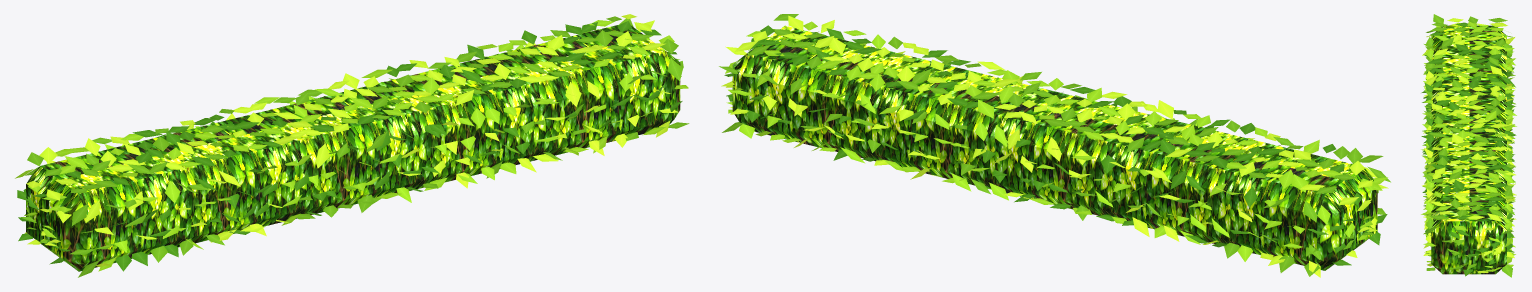
The model's file is V03_shrub_v2.glb.
The picture shows the model from 3 angles, left to right: view 1: azimuth 30°, elevation 25°; view 2: azimuth 150°, elevation 25°; view 3: azimuth 270°, elevation 25°; orthographic projection. The views are drawn at different scales.
Parts seen in each view (by area): view 1: GAME_VEG_Dense_inner_leaves, GAME_VEG_Sculpted_leaves; view 2: GAME_VEG_Dense_inner_leaves, GAME_VEG_Sculpted_leaves; view 3: GAME_VEG_Sculpted_leaves, GAME_VEG_Dense_inner_leaves.
Part boxes in pixels (<box>): GAME_VEG_Dense_inner_leaves: <box>26,24,680,271</box>; GAME_VEG_Sculpted_leaves: <box>15,14,689,277</box>; GAME_VEG_Dense_inner_leaves: <box>732,25,1377,270</box>; GAME_VEG_Sculpted_leaves: <box>719,14,1390,277</box>; GAME_VEG_Sculpted_leaves: <box>1421,14,1516,277</box>; GAME_VEG_Dense_inner_leaves: <box>1431,25,1506,274</box>.
Bounding box in the file's own units: 5.34 × 0.7031 × 1.03.
Materials: 2 (2 with a texture image).
